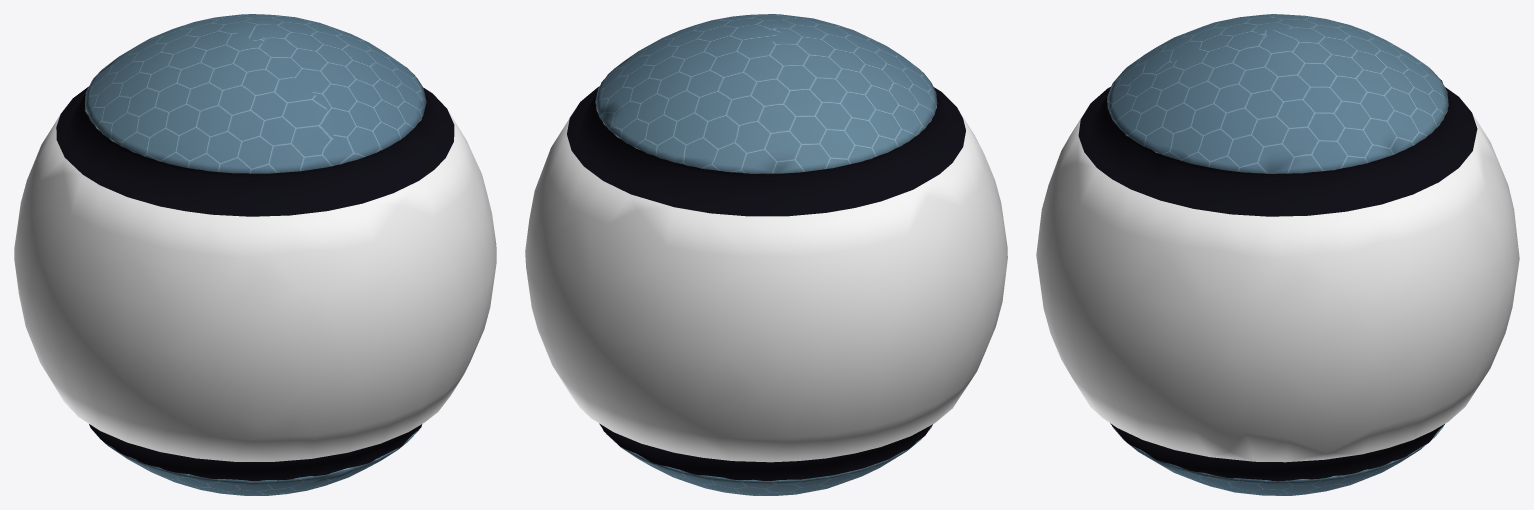
Rendered from Ball.fbx.
3 views of the same model, side by side, from view 1: azimuth 30°, elevation 25°; view 2: azimuth 150°, elevation 25°; view 3: azimuth 270°, elevation 25° (orthographic).
Parts seen in each view (by area): view 1: Sphere, Sphere.001; view 2: Sphere, Sphere.001; view 3: Sphere, Sphere.001.
Part boxes in pixels (box(x1,y1,x2,y2)): Sphere: box(14, 73, 496, 480); Sphere.001: box(85, 14, 426, 495); Sphere: box(525, 68, 1007, 480); Sphere.001: box(595, 14, 937, 495); Sphere: box(1036, 80, 1519, 481); Sphere.001: box(1107, 14, 1448, 495).
Size of the model in its own units: 1.99 by 2.01 by 1.99.
